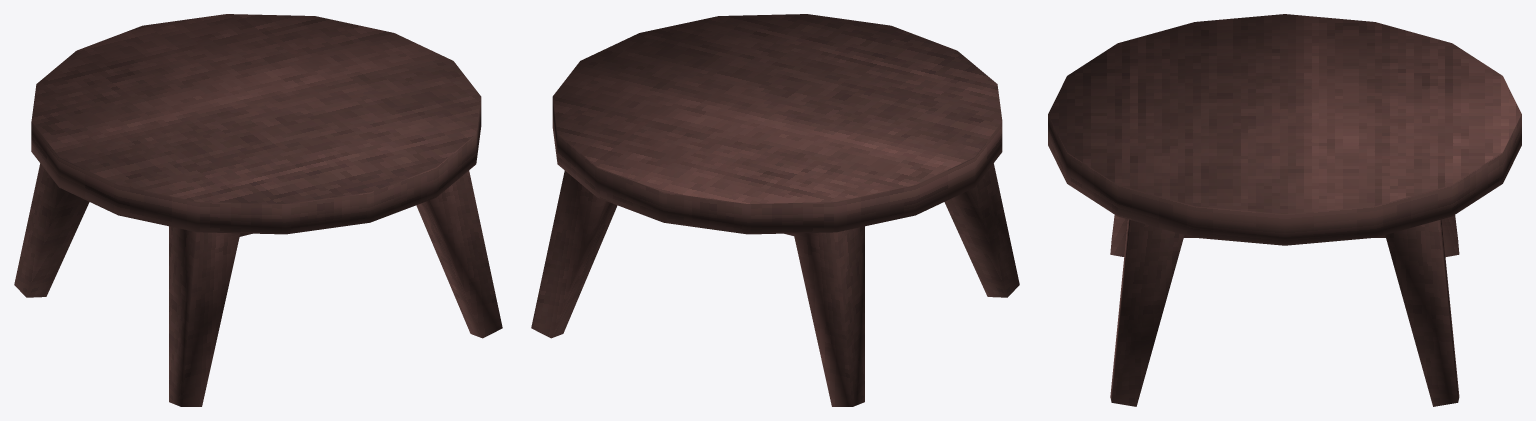
File: dining_table.fbx
3 views of the same model, side by side, from view 1: azimuth 30°, elevation 25°; view 2: azimuth 150°, elevation 25°; view 3: azimuth 270°, elevation 25° (orthographic). The views are drawn at different scales.
Visible parts, largest first — view 1: dining_table; view 2: dining_table; view 3: dining_table.
Boxes of the visible parts, left/top/right/bottom form: dining_table: left=14, top=14, right=502, bottom=406; dining_table: left=531, top=14, right=1019, bottom=406; dining_table: left=1048, top=14, right=1521, bottom=406.
Size of the model in its own units: 71.78 by 35.98 by 71.78.
